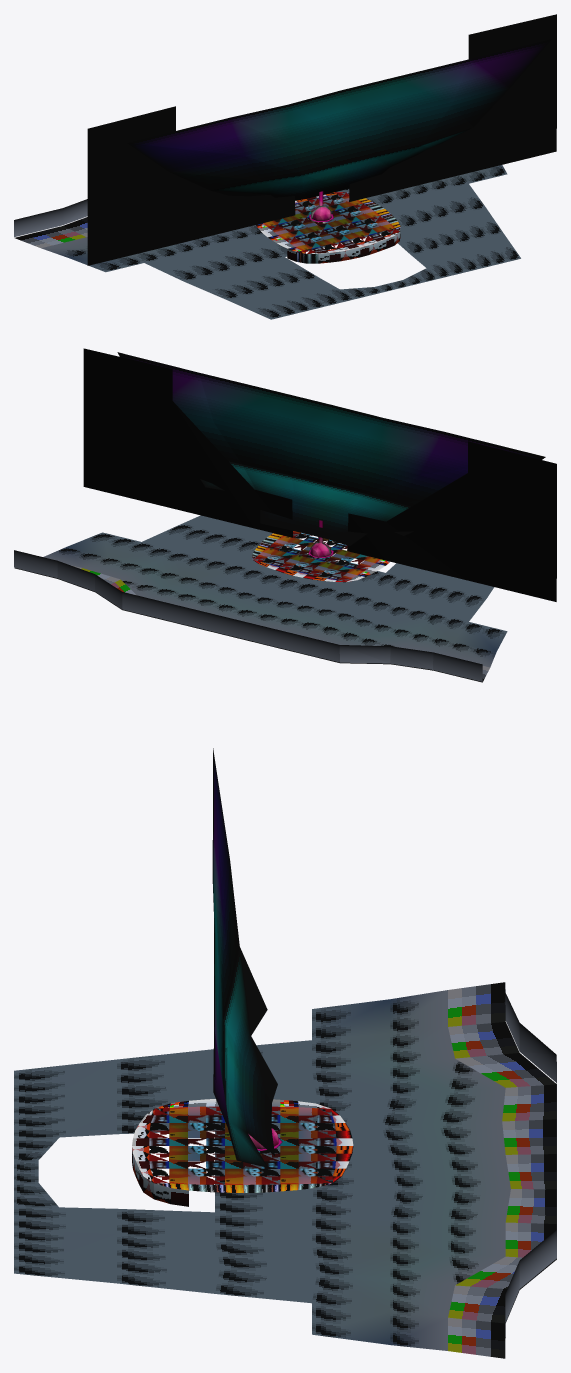
3 renders of one model, top to bottom at view 1: azimuth 30°, elevation 25°; view 2: azimuth 150°, elevation 25°; view 3: azimuth 270°, elevation 25°, orthographic. The views are drawn at different scales.
Parts seen in each view (by area): view 1: extra_36a0, extra_3da0, extra_25d8, extra_16b0, extra_3c34, extra_3a68; view 2: extra_3da0, extra_25d8, extra_36a0, extra_3c34, extra_16b0; view 3: extra_25d8, extra_16b0, extra_36a0, extra_3c34, extra_3a68.
Boxes of the visible parts, <box> form: extra_36a0: <box>127,39,551,200</box>; extra_3da0: <box>87,14,556,265</box>; extra_25d8: <box>15,165,520,319</box>; extra_16b0: <box>256,192,400,253</box>; extra_3c34: <box>14,199,87,237</box>; extra_3a68: <box>287,227,400,263</box>; extra_3da0: <box>83,348,556,601</box>; extra_25d8: <box>14,515,507,682</box>; extra_36a0: <box>117,352,545,546</box>; extra_3c34: <box>14,550,482,681</box>; extra_16b0: <box>252,531,390,582</box>; extra_25d8: <box>14,982,556,1358</box>; extra_16b0: <box>132,1099,353,1192</box>; extra_36a0: <box>212,748,277,1167</box>; extra_3c34: <box>505,989,556,1336</box>; extra_3a68: <box>132,1108,188,1206</box>.
Bounding box in the file's own units: 20.08 × 6.71 × 12.11.
